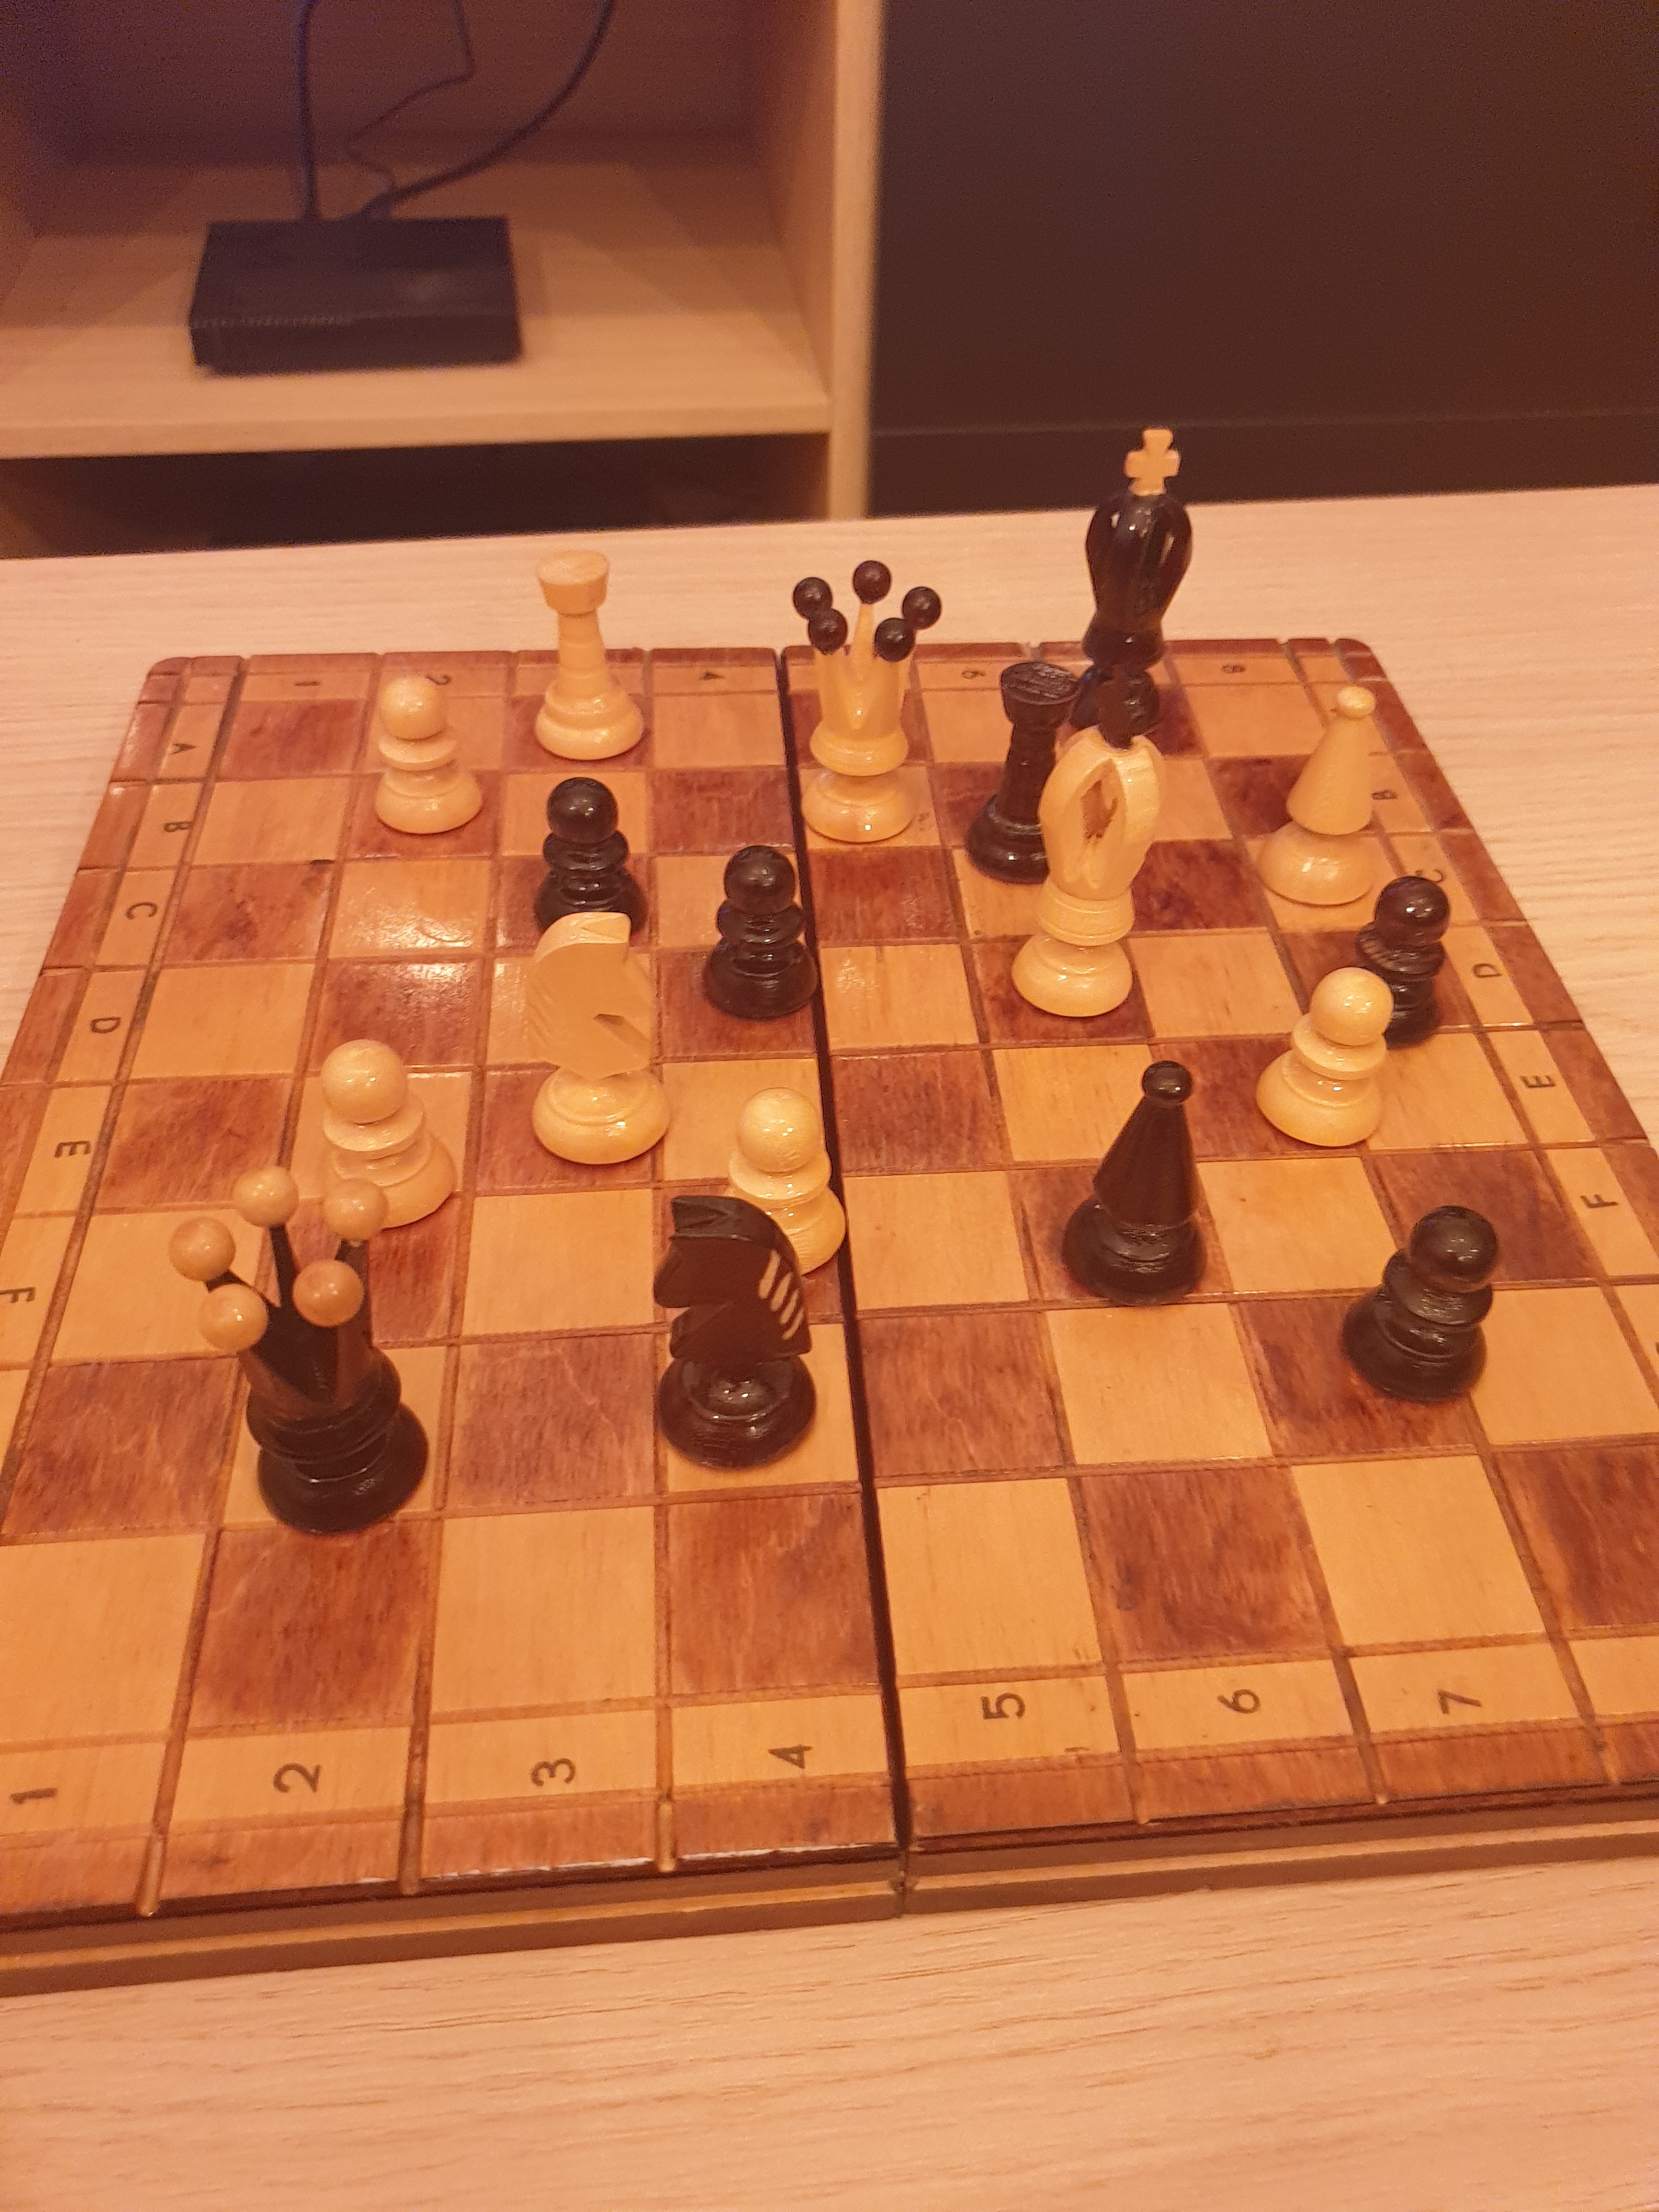bbishop: (1047, 1052, 1227, 1318)
bking: (1060, 408, 1208, 754)
bknight: (634, 1184, 840, 1480)
bpawn: (1337, 1191, 1507, 1411), (521, 768, 674, 968), (694, 836, 840, 1038), (1349, 871, 1453, 1059)
bqueen: (164, 1153, 455, 1552)
brook: (964, 651, 1086, 890)
wbishop: (1241, 676, 1392, 925)
wking: (1009, 662, 1169, 1029)
wknight: (504, 904, 697, 1177)
wpawn: (295, 1031, 479, 1251), (1244, 949, 1419, 1176), (713, 1059, 864, 1310), (357, 653, 493, 862)
wqueen: (782, 540, 948, 862)
wrook: (519, 543, 655, 772)
